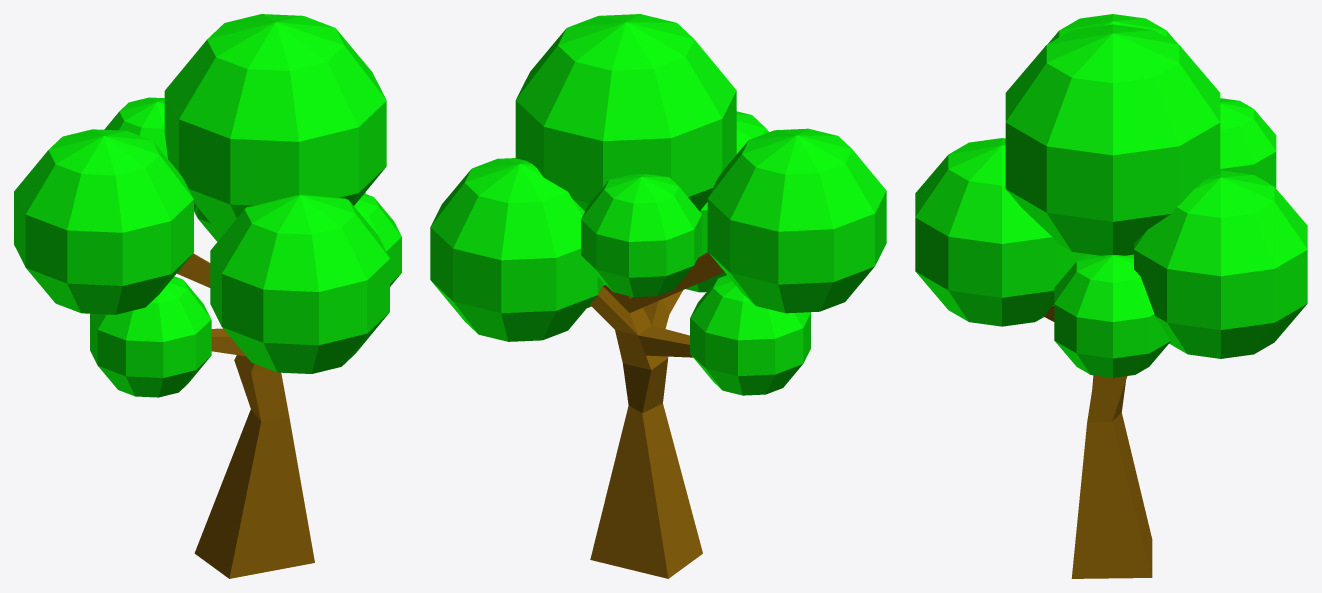
Rendered from tree_real.fbx.
The picture shows the model from 3 angles, left to right: view 1: azimuth 30°, elevation 25°; view 2: azimuth 150°, elevation 25°; view 3: azimuth 270°, elevation 25°; orthographic projection.
Parts seen in each view (by area): view 1: pSphere2, pSphere1, pSphere4, tronco, pSphere7, pSphere5, pSphere3; view 2: pSphere2, pSphere1, pSphere6, tronco, pSphere5, pSphere7, pSphere4; view 3: pSphere2, pSphere6, pSphere4, tronco, pSphere3, pSphere5, pSphere1.
Boxes of the visible parts, x1=… form: pSphere2: x1=164, y1=14, x2=386, y2=232; pSphere1: x1=14, y1=129, x2=193, y2=314; pSphere4: x1=210, y1=194, x2=389, y2=373; tronco: x1=177, y1=253, x2=314, y2=578; pSphere7: x1=90, y1=276, x2=211, y2=397; pSphere5: x1=104, y1=97, x2=196, y2=208; pSphere3: x1=354, y1=193, x2=401, y2=286; pSphere2: x1=515, y1=14, x2=736, y2=211; pSphere1: x1=707, y1=128, x2=886, y2=313; pSphere6: x1=430, y1=158, x2=603, y2=341; tronco: x1=590, y1=252, x2=724, y2=578; pSphere5: x1=581, y1=174, x2=701, y2=297; pSphere7: x1=690, y1=275, x2=810, y2=395; pSphere4: x1=686, y1=111, x2=768, y2=292; pSphere2: x1=1005, y1=24, x2=1220, y2=255; pSphere6: x1=1134, y1=170, x2=1307, y2=358; pSphere4: x1=915, y1=138, x2=1088, y2=326; tronco: x1=1044, y1=305, x2=1152, y2=578; pSphere3: x1=1054, y1=254, x2=1170, y2=377; pSphere5: x1=1220, y1=98, x2=1276, y2=187; pSphere1: x1=1048, y1=14, x2=1177, y2=43.
Size of the model in its own units: 370 by 491 by 326.
